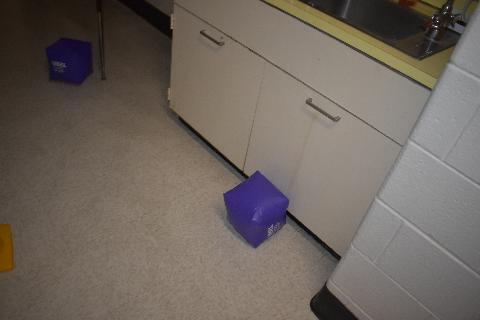cone: (0, 224, 14, 272)
cube: (222, 170, 290, 248), (46, 35, 95, 85)
